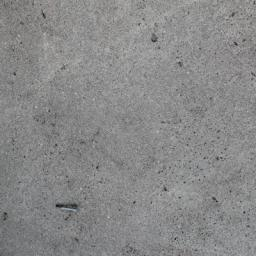FOD: (56, 201, 86, 218)
